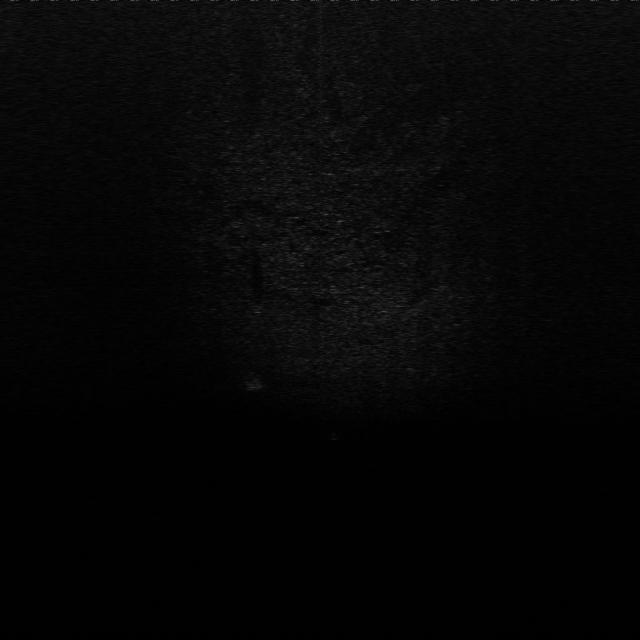ball: (243, 299, 273, 317)
circle cage: (236, 366, 270, 395)
